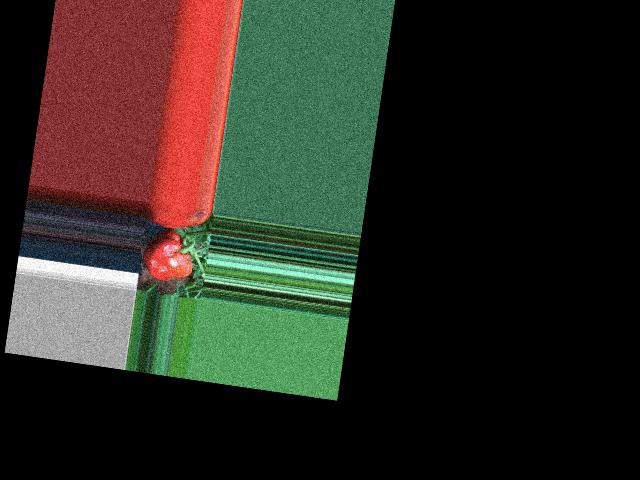bell_pepper: (137, 226, 201, 282)
